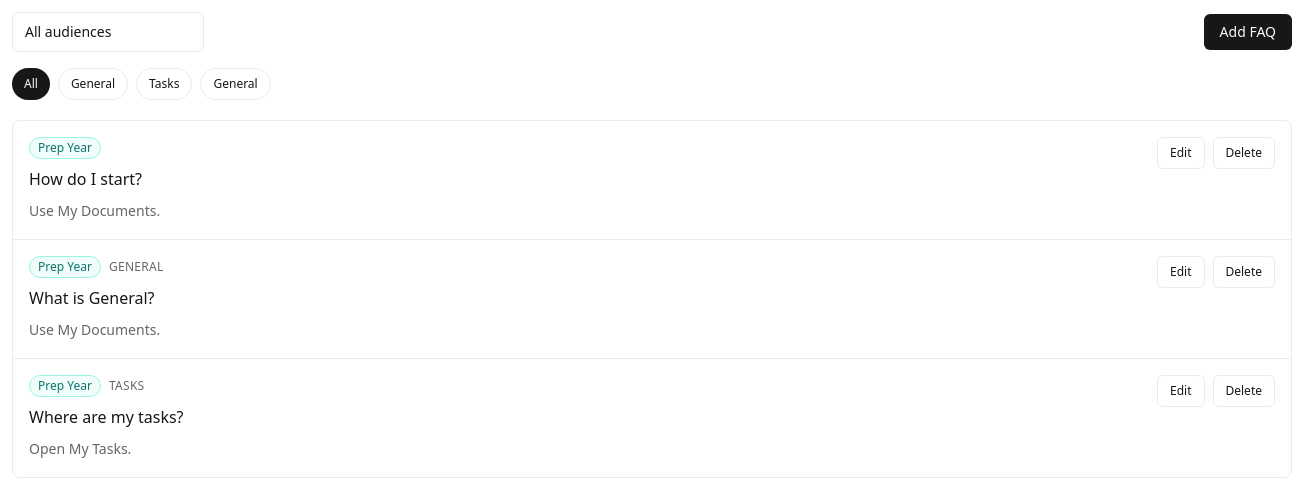
Scenario: FaqManagement › filters uncategorized items separately from a real General category
Expected: the text "What is General?" is shown, x1=29 y1=287 x2=155 y2=309
Expected: the text "How do I start?" is shown, x1=29 y1=168 x2=142 y2=190
Step 1. Click the 1st button "General" → (93, 84), box x1=58 y1=68 x2=128 y2=100
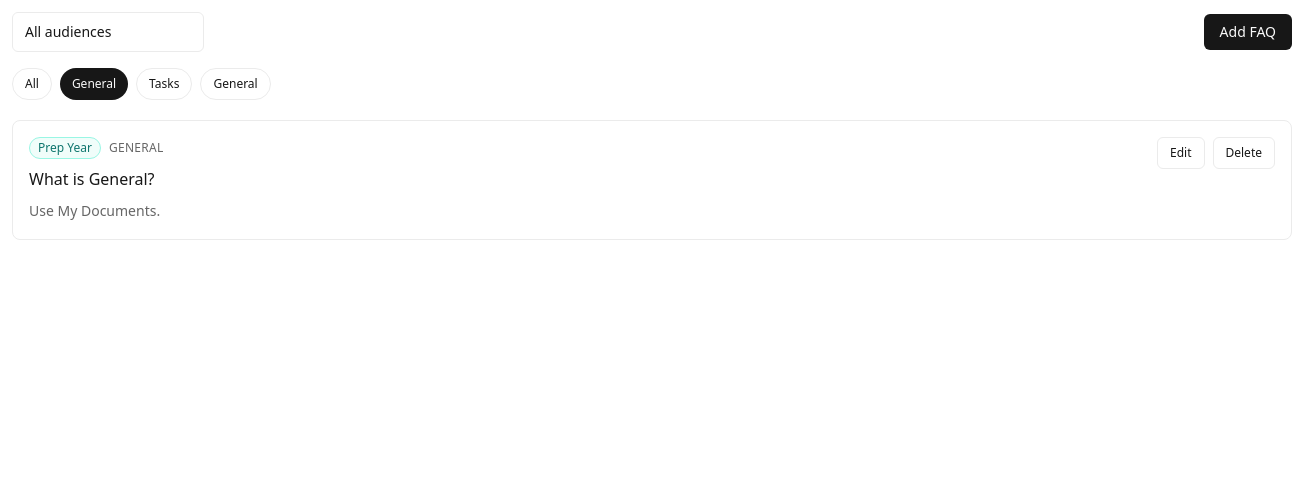
Expected: the text "What is General?" is shown, x1=29 y1=168 x2=155 y2=190
Expected: the text "How do I start?" is gone
Step 2. Click the 2nd button "General" → (236, 84), box x1=200 y1=68 x2=271 y2=100
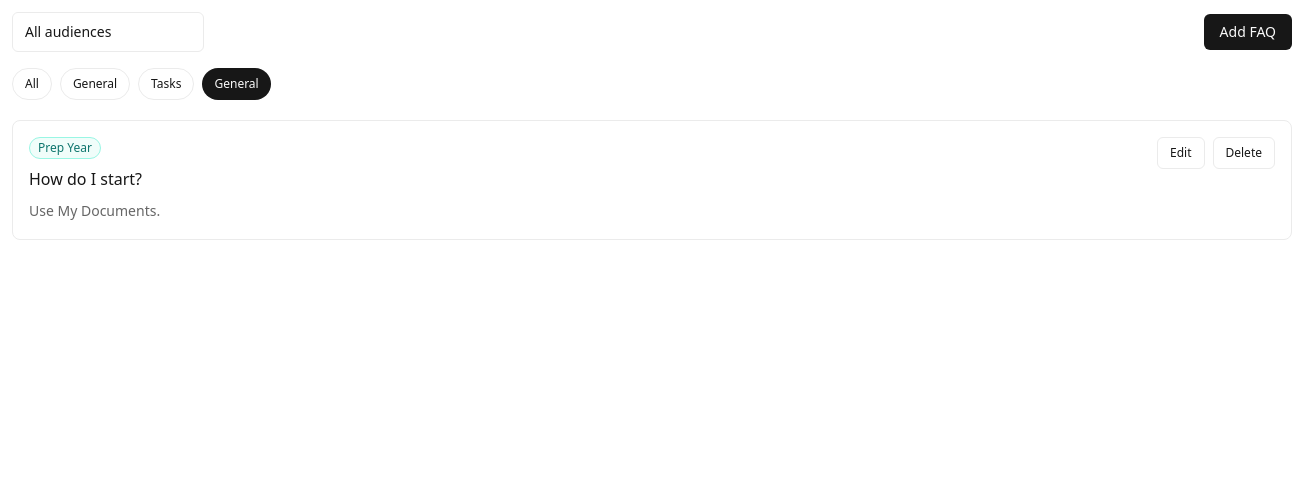
Expected: the text "How do I start?" is shown, x1=29 y1=168 x2=142 y2=190
Expected: the text "What is General?" is gone
